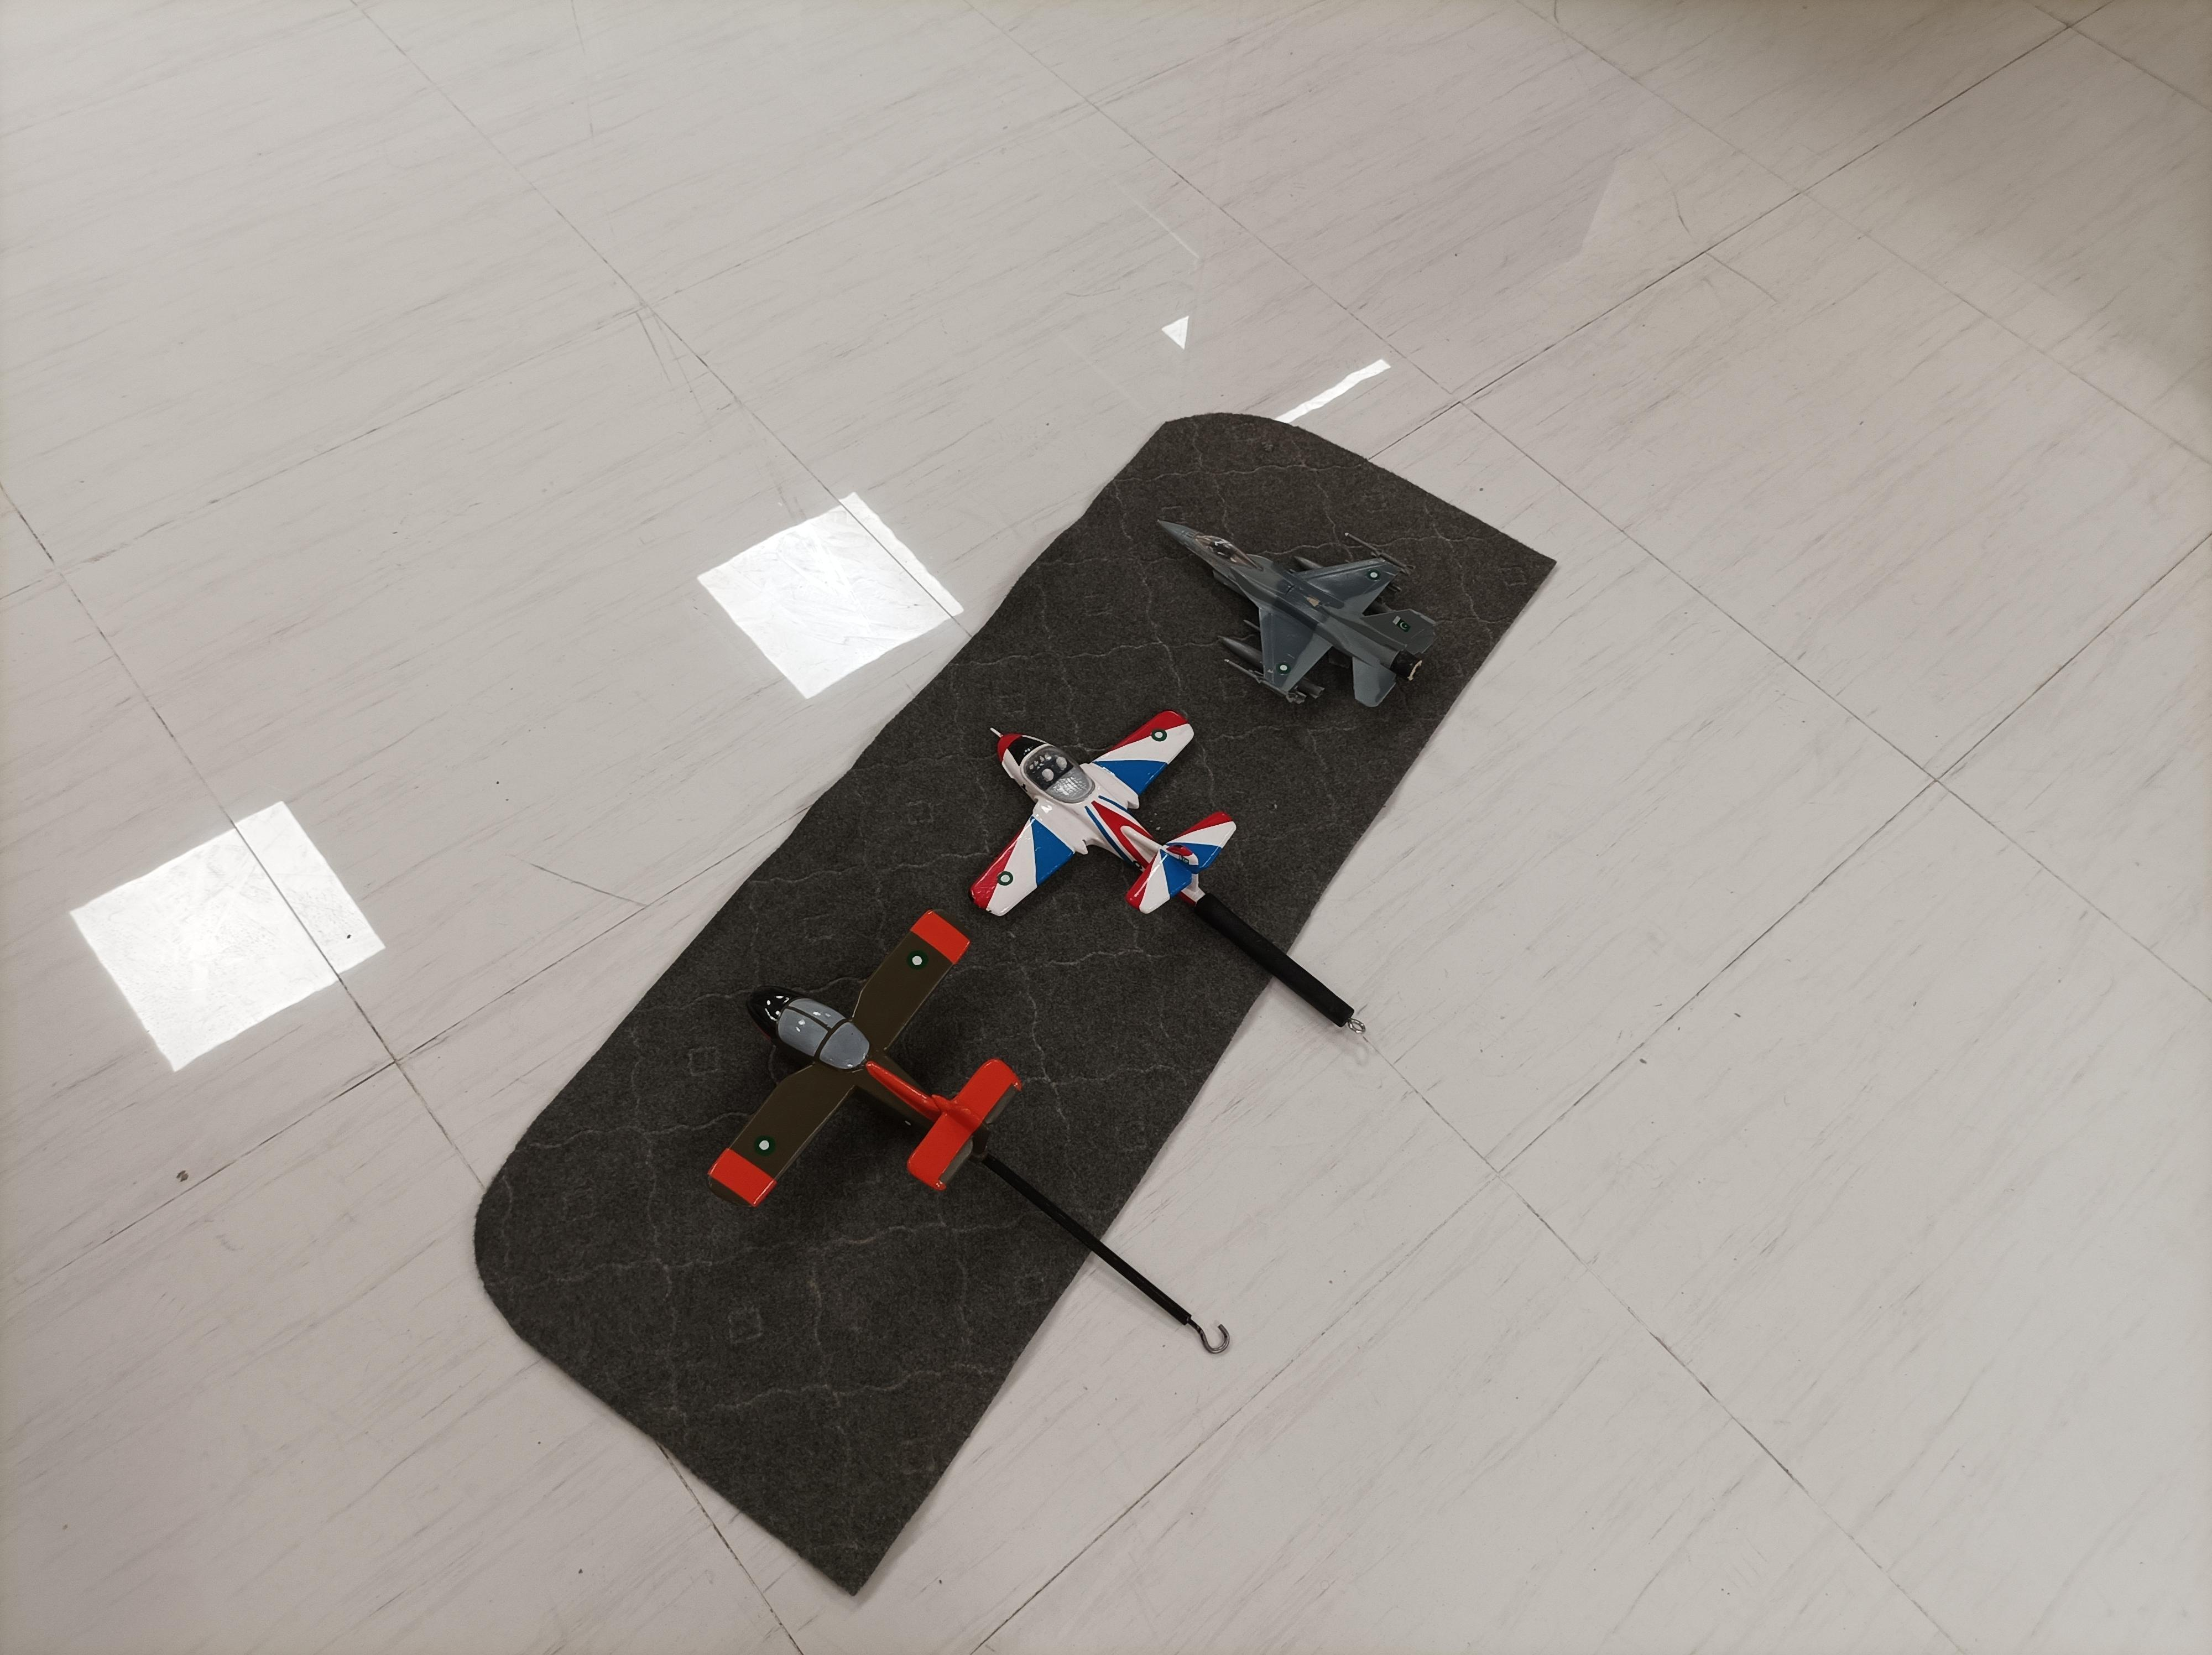Airplane: (697, 895, 1029, 1241), (968, 692, 1263, 956), (1142, 492, 1454, 716)
